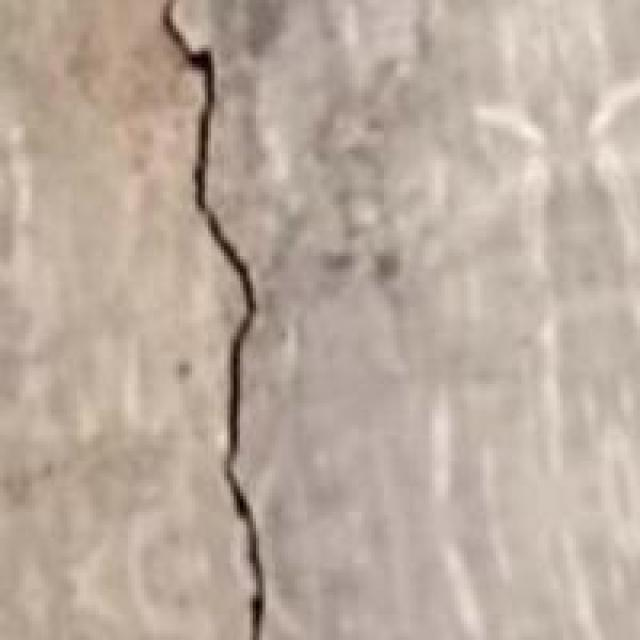crack: (141, 0, 301, 637)
